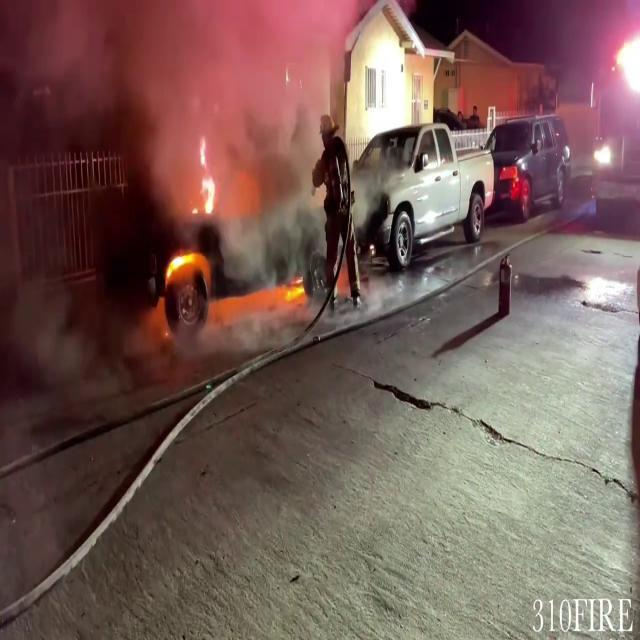Fire: (258, 271, 308, 306)
Smoke: (4, 0, 353, 255)
